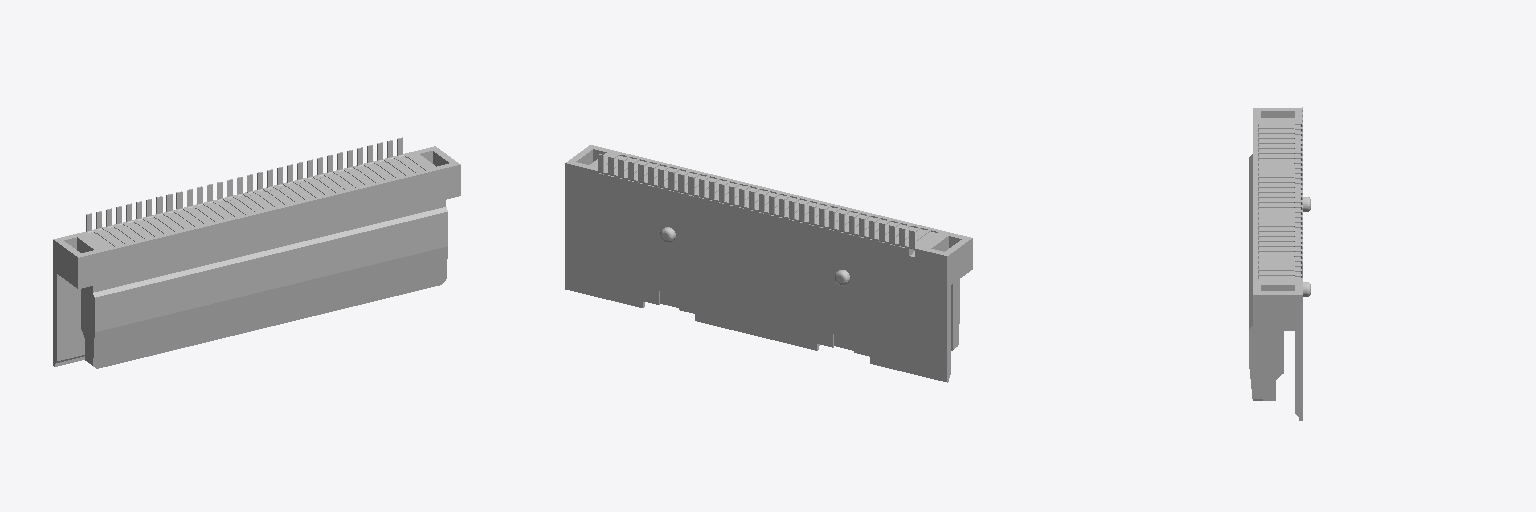
The model's file is connector.obj.
3 renders of one model, left to right at view 1: azimuth 30°, elevation 25°; view 2: azimuth 150°, elevation 25°; view 3: azimuth 270°, elevation 25°, orthographic.
Parts seen in each view (by area): view 1: Body1:7; view 2: Body1:7; view 3: Body1:7.
Boxes of the visible parts, box(x1,y1,x2,y2) form: Body1:7: box(53, 146, 460, 368); Body1:7: box(565, 145, 972, 382); Body1:7: box(1249, 108, 1310, 420).
Size of the model in its own units: 5.7 by 2.04 by 0.8.